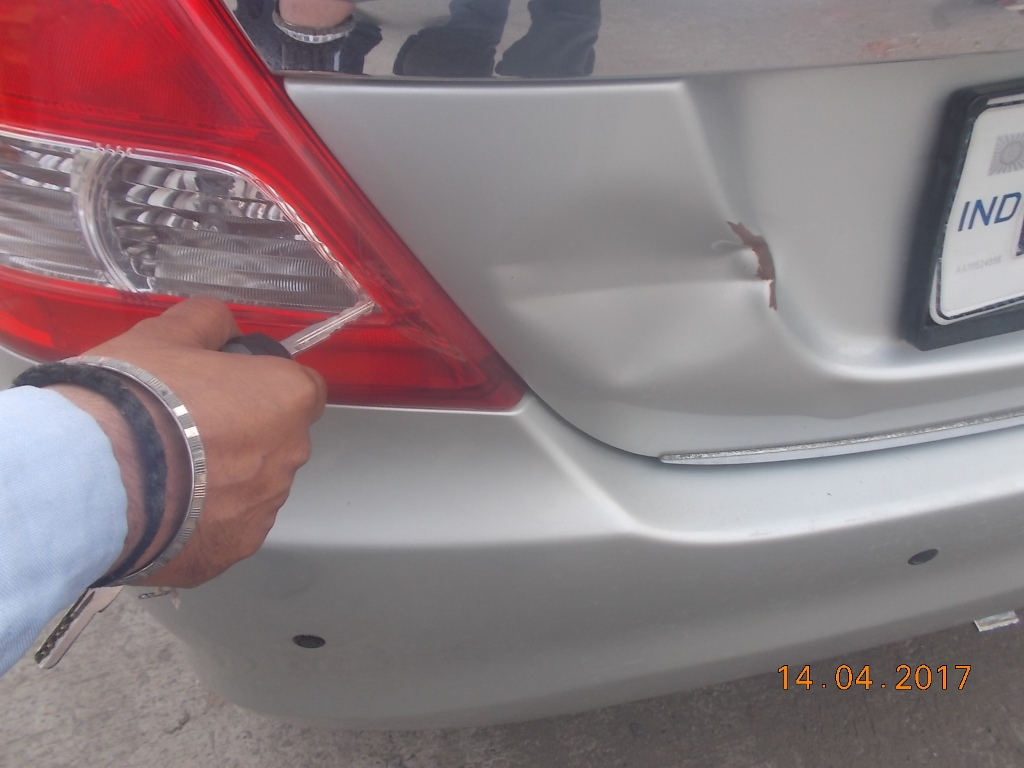Dent: (500, 196, 792, 382)
